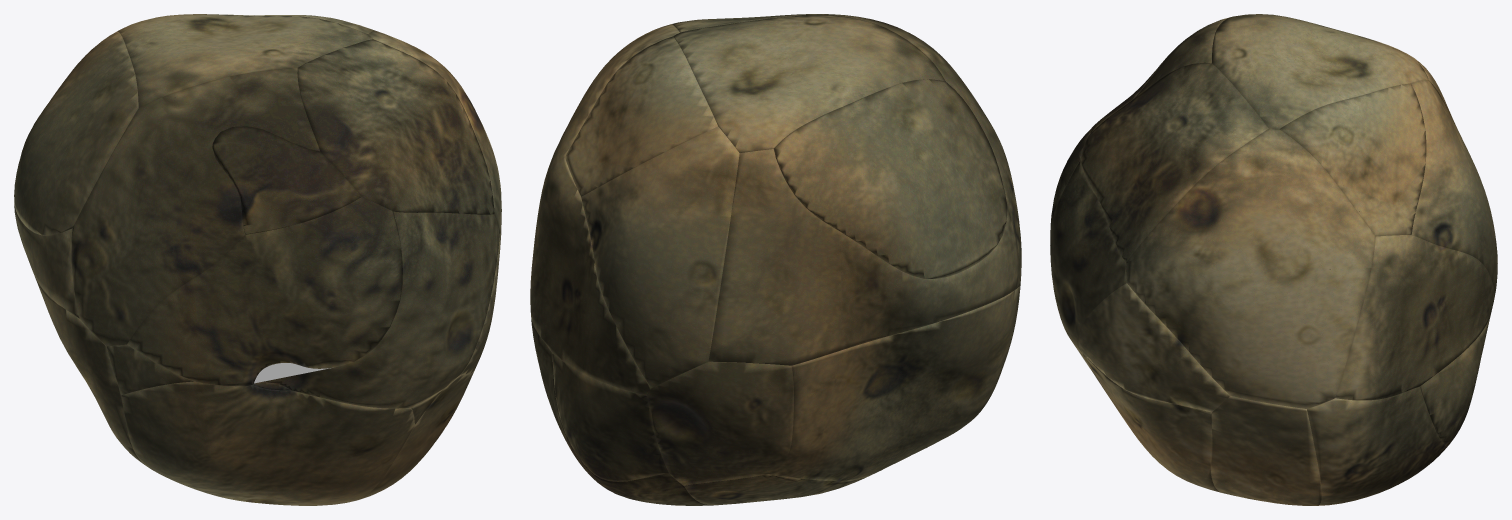
Rendered from fracsteroid.fbx.
3 views of the same model, side by side, from view 1: azimuth 30°, elevation 25°; view 2: azimuth 150°, elevation 25°; view 3: azimuth 270°, elevation 25° (orthographic). The views are drawn at different scales.
Visible parts, largest first — view 1: 10464_Asteroid_v1_Iterations-2_shard.009, 10464_Asteroid_v1_Iterations-2_shard.008, 10464_Asteroid_v1_Iterations-2_shard.011, 10464_Asteroid_v1_Iterations-2_shard.013, 10464_Asteroid_v1_Iterations-2_shard.001, 10464_Asteroid_v1_Iterations-2_shard.018, 10464_Asteroid_v1_Iterations-2_shard.017, 10464_Asteroid_v1_Iterations-2_shard.020, 10464_Asteroid_v1_Iterations-2_shard.006, 10464_Asteroid_v1_Iterations-2_shard.015, 10464_Asteroid_v1_Iterations-2_shard.021, 10464_Asteroid_v1_Iterations-2_shard (+2 smaller); view 2: 10464_Asteroid_v1_Iterations-2_shard.015, 10464_Asteroid_v1_Iterations-2_shard.018, 10464_Asteroid_v1_Iterations-2_shard.004, 10464_Asteroid_v1_Iterations-2_shard.006, 10464_Asteroid_v1_Iterations-2_shard.017, 10464_Asteroid_v1_Iterations-2_shard.014, 10464_Asteroid_v1_Iterations-2_shard.012, 10464_Asteroid_v1_Iterations-2_shard.002, 10464_Asteroid_v1_Iterations-2_shard.003, 10464_Asteroid_v1_Iterations-2_shard.016, 10464_Asteroid_v1_Iterations-2_shard.005, 10464_Asteroid_v1_Iterations-2_shard.009 (+2 smaller); view 3: 10464_Asteroid_v1_Iterations-2_shard.007, 10464_Asteroid_v1_Iterations-2_shard.013, 10464_Asteroid_v1_Iterations-2_shard.012, 10464_Asteroid_v1_Iterations-2_shard.017, 10464_Asteroid_v1_Iterations-2_shard.002, 10464_Asteroid_v1_Iterations-2_shard.005, 10464_Asteroid_v1_Iterations-2_shard.019, 10464_Asteroid_v1_Iterations-2_shard.010, 10464_Asteroid_v1_Iterations-2_shard.004, 10464_Asteroid_v1_Iterations-2_shard.001, 10464_Asteroid_v1_Iterations-2_shard.021, 10464_Asteroid_v1_Iterations-2_shard.003 (+2 smaller).
Boxes of the visible parts, box(x1,y1,x2,y2) form: 10464_Asteroid_v1_Iterations-2_shard.009: box(71, 67, 319, 346); 10464_Asteroid_v1_Iterations-2_shard.008: box(127, 197, 402, 386); 10464_Asteroid_v1_Iterations-2_shard.011: box(121, 381, 414, 505); 10464_Asteroid_v1_Iterations-2_shard.013: box(297, 39, 494, 214); 10464_Asteroid_v1_Iterations-2_shard.001: box(254, 211, 499, 408); 10464_Asteroid_v1_Iterations-2_shard.018: box(14, 31, 138, 235); 10464_Asteroid_v1_Iterations-2_shard.017: box(117, 14, 372, 107); 10464_Asteroid_v1_Iterations-2_shard.020: box(212, 126, 360, 234); 10464_Asteroid_v1_Iterations-2_shard.006: box(35, 277, 144, 464); 10464_Asteroid_v1_Iterations-2_shard.015: box(14, 204, 79, 318); 10464_Asteroid_v1_Iterations-2_shard.021: box(355, 372, 473, 500); 10464_Asteroid_v1_Iterations-2_shard: box(106, 344, 442, 424); 10464_Asteroid_v1_Iterations-2_shard.015: box(708, 149, 1019, 365); 10464_Asteroid_v1_Iterations-2_shard.018: box(774, 79, 1007, 278); 10464_Asteroid_v1_Iterations-2_shard.004: box(581, 126, 739, 387); 10464_Asteroid_v1_Iterations-2_shard.006: box(768, 286, 1019, 480); 10464_Asteroid_v1_Iterations-2_shard.017: box(673, 14, 945, 152); 10464_Asteroid_v1_Iterations-2_shard.014: box(647, 361, 793, 485); 10464_Asteroid_v1_Iterations-2_shard.012: box(530, 157, 651, 395); 10464_Asteroid_v1_Iterations-2_shard.002: box(565, 36, 717, 196); 10464_Asteroid_v1_Iterations-2_shard.003: box(552, 354, 668, 481); 10464_Asteroid_v1_Iterations-2_shard.016: box(684, 474, 868, 505); 10464_Asteroid_v1_Iterations-2_shard.005: box(531, 319, 713, 505); 10464_Asteroid_v1_Iterations-2_shard.009: box(823, 14, 1021, 289); 10464_Asteroid_v1_Iterations-2_shard.007: box(1126, 128, 1375, 408); 10464_Asteroid_v1_Iterations-2_shard.013: box(1080, 62, 1268, 262); 10464_Asteroid_v1_Iterations-2_shard.012: box(1335, 235, 1494, 400); 10464_Asteroid_v1_Iterations-2_shard.017: box(1212, 14, 1428, 128); 10464_Asteroid_v1_Iterations-2_shard.002: box(1279, 83, 1426, 236); 10464_Asteroid_v1_Iterations-2_shard.005: box(1307, 386, 1447, 505); 10464_Asteroid_v1_Iterations-2_shard.019: box(1210, 396, 1321, 505); 10464_Asteroid_v1_Iterations-2_shard.010: box(1078, 283, 1229, 412); 10464_Asteroid_v1_Iterations-2_shard.004: box(1411, 80, 1497, 296); 10464_Asteroid_v1_Iterations-2_shard.001: box(1050, 160, 1126, 355); 10464_Asteroid_v1_Iterations-2_shard.021: box(1083, 353, 1220, 492); 10464_Asteroid_v1_Iterations-2_shard.003: box(1420, 316, 1490, 446).
Size of the model in its own units: 13653 by 13831 by 13767.
Materials: 2 (1 with a texture image).
